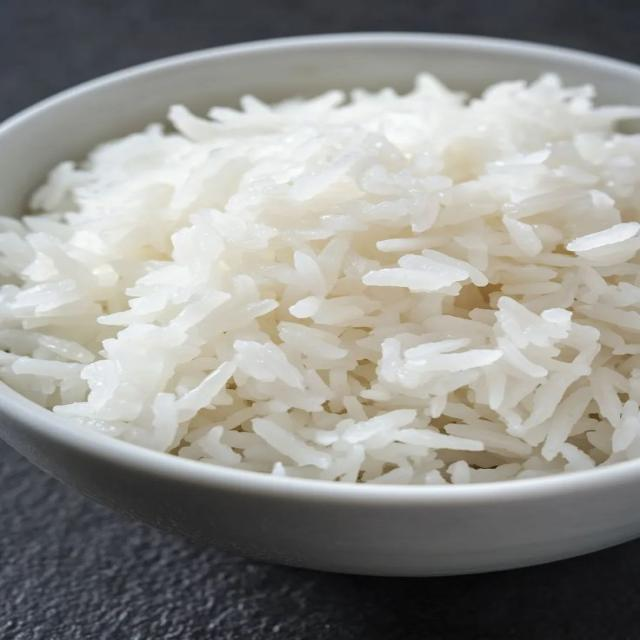rice: (0, 75, 639, 484)
